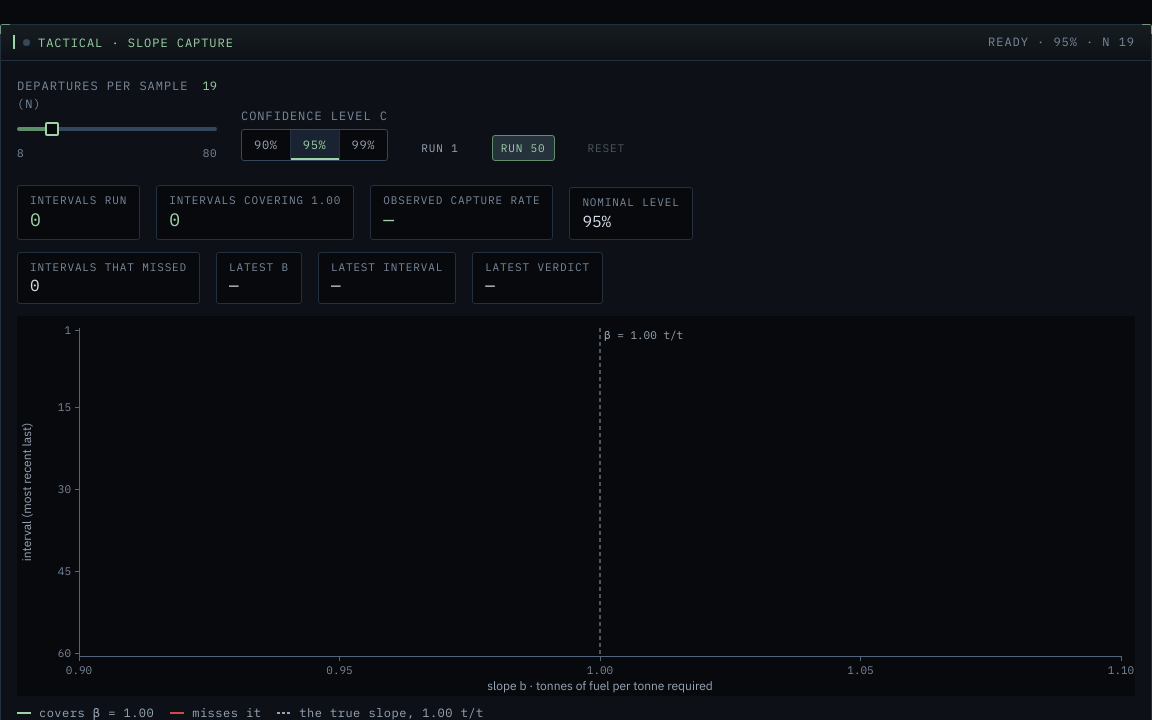
Test: <SlopeCaptureSimulator> › counts fifty more and reports a capture rate near the nominal level
The width and height of the screenshot is (1152, 720).
Click the button "RUN 1". click: (440, 148)
box: [412,135,468,161]
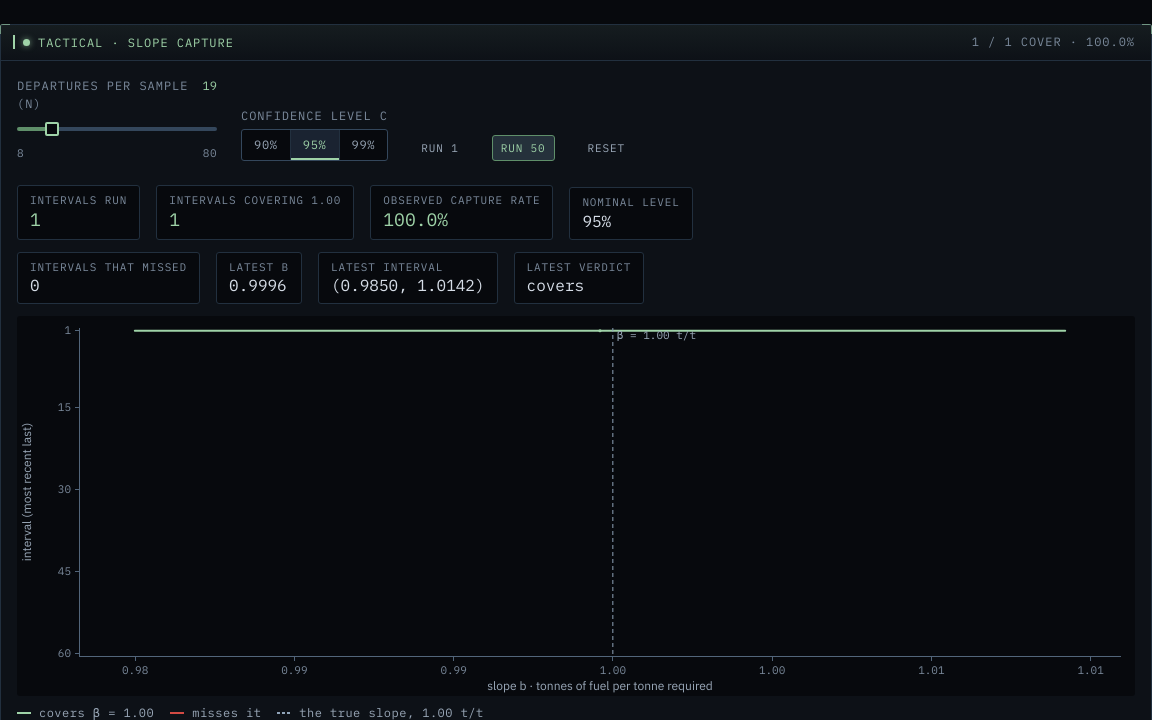
Click the button "RUN 50". click: (523, 148)
box: [492,135,555,161]
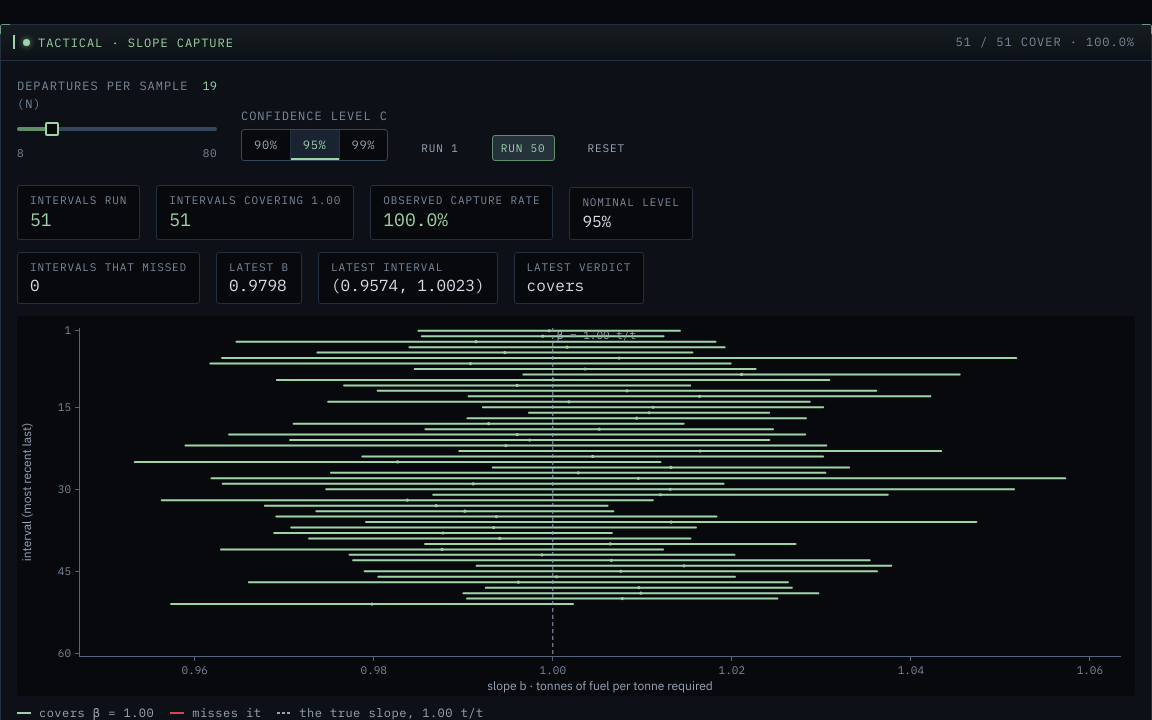
Now the text "51" below "intervals covering 1.00" is shown, box [169,208,191,231]
